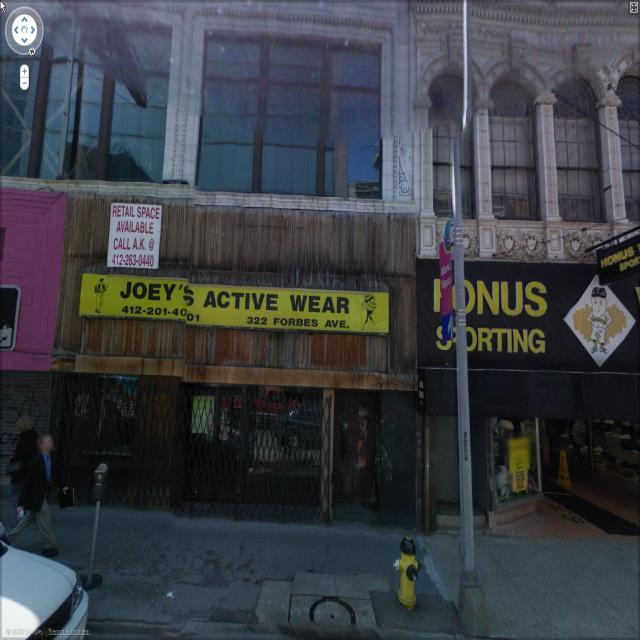window: (192, 27, 394, 195), (17, 24, 187, 187), (420, 77, 490, 222), (544, 78, 608, 224), (481, 78, 539, 228)
